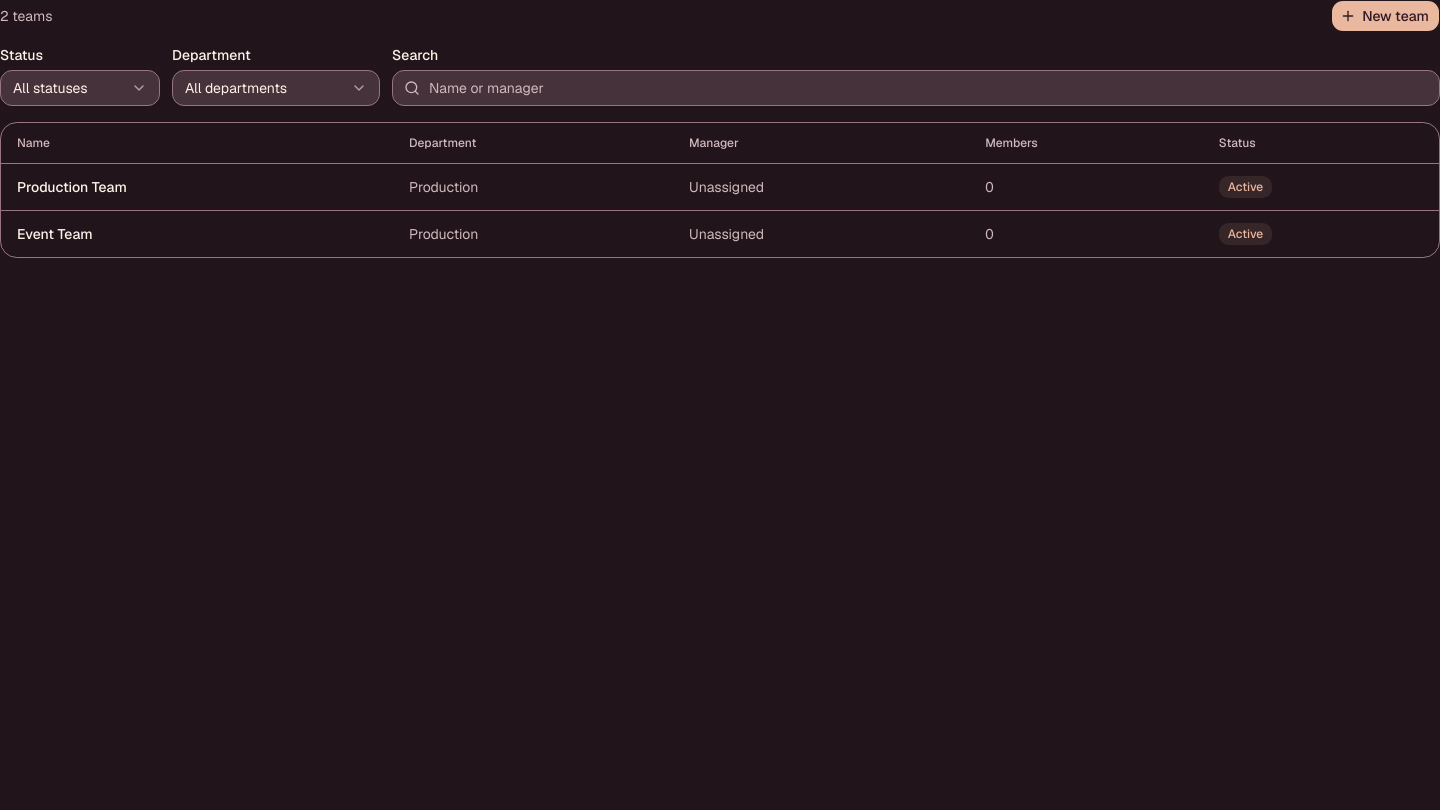
Test: TeamsManager API integration › surfaces a name conflict and keeps the dialog open
Expected: the text "2 teams" is shown, [0,6,52,26]
Click the button "New team" at (1386, 16), box [1331,0,1439,32]
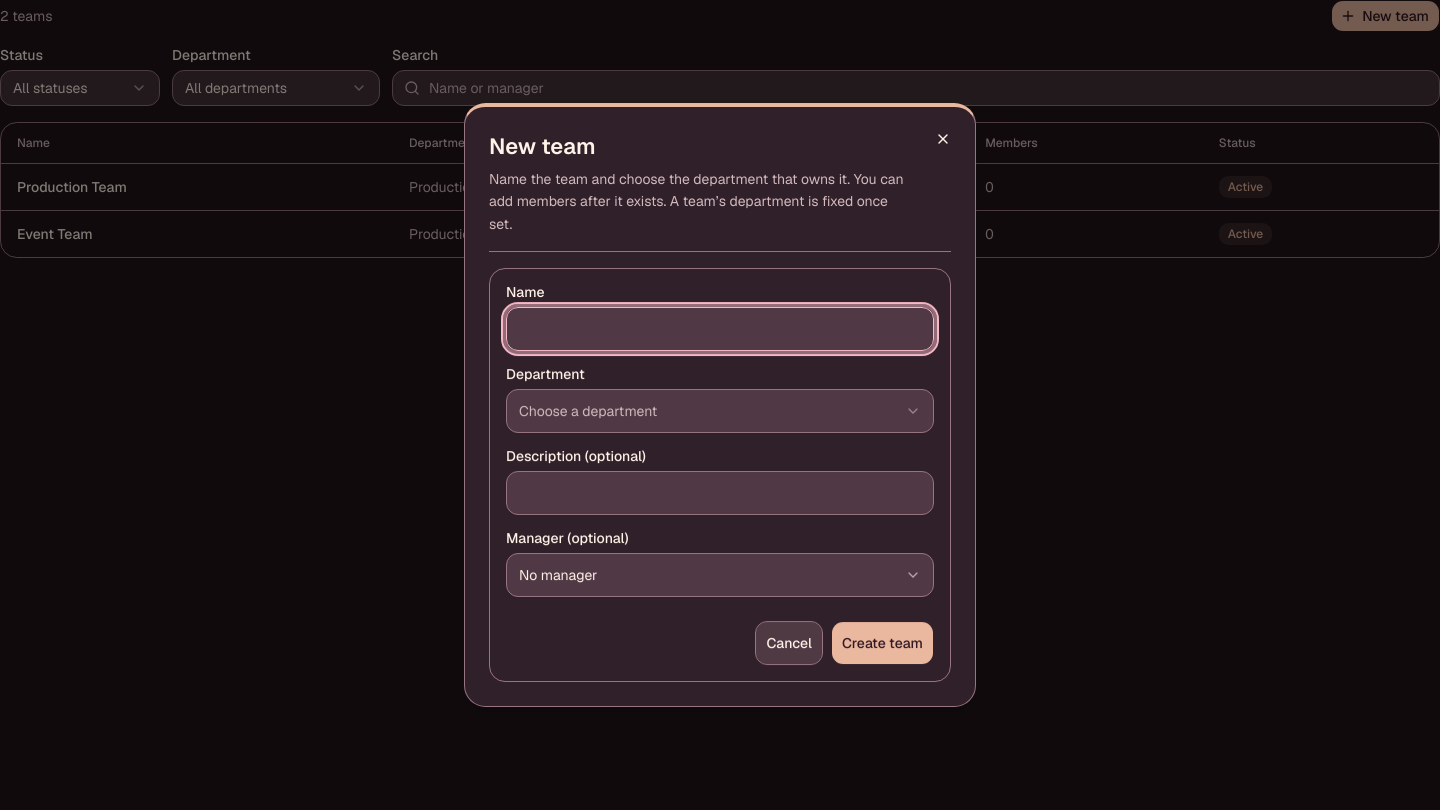
Type "Production Team" into the field labelled "Name" at (720, 329), box [506,307,934,351]
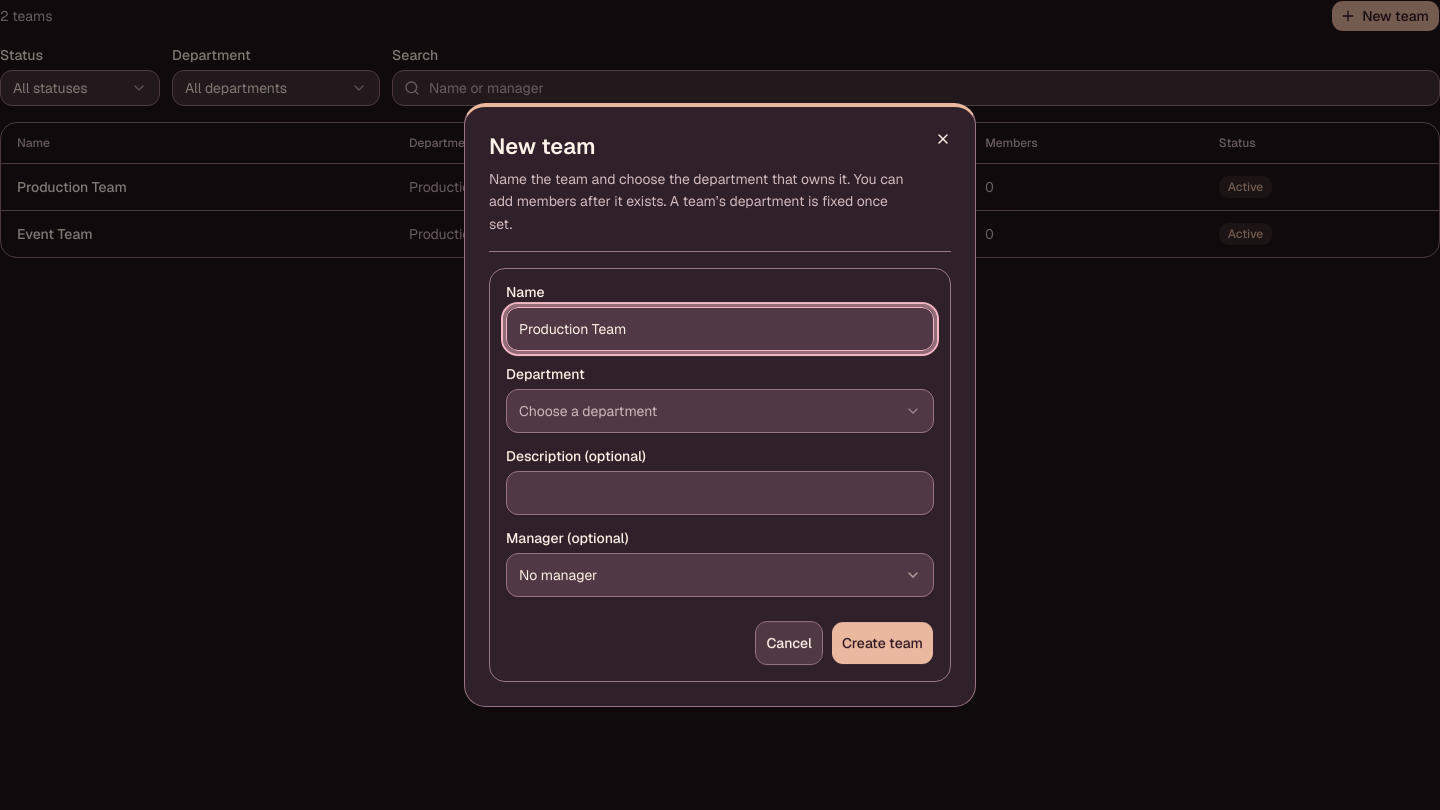
Click the dropdown labelled "department" at (588, 411), box [506,389,934,433]
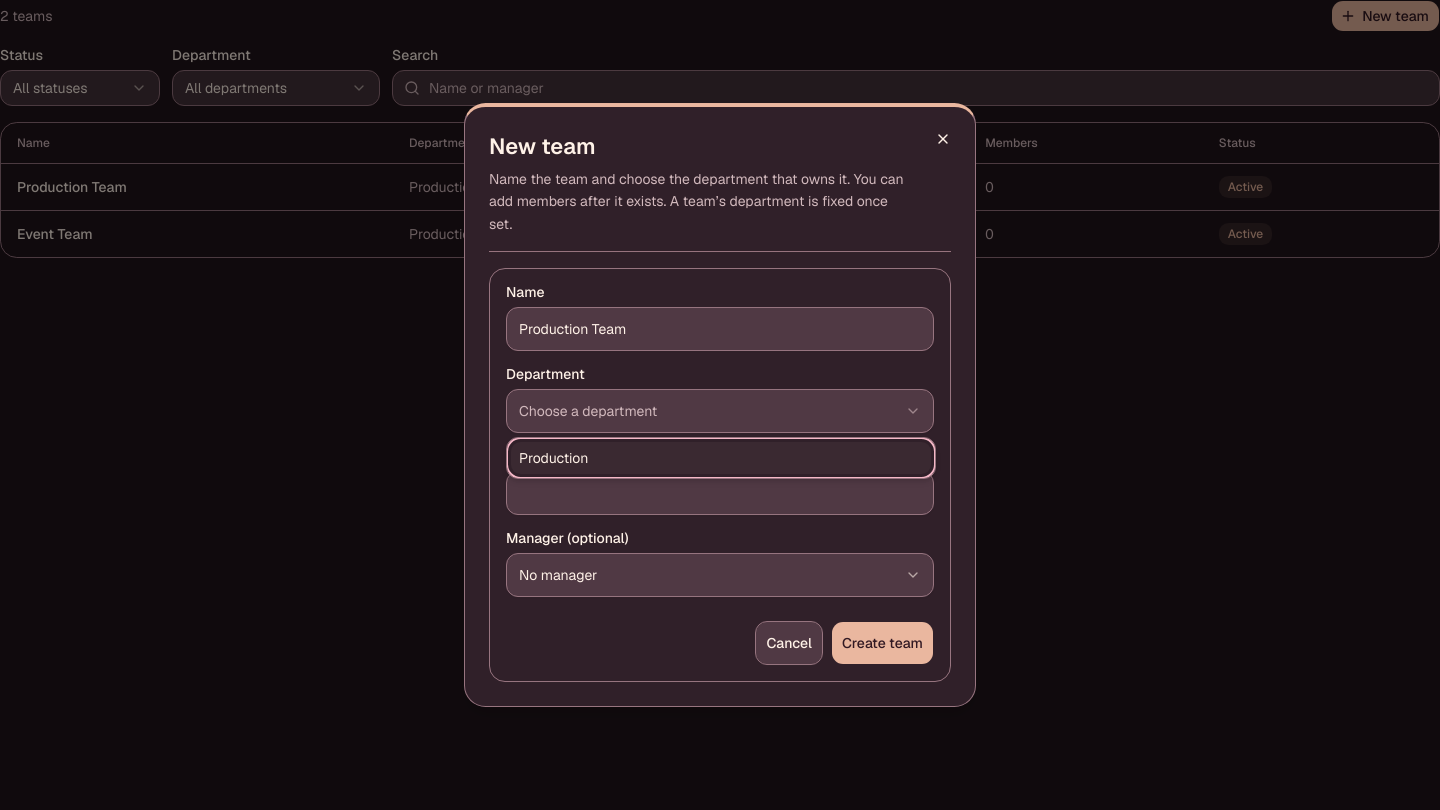
Click the option "Production" at (554, 458), box [511,442,931,474]
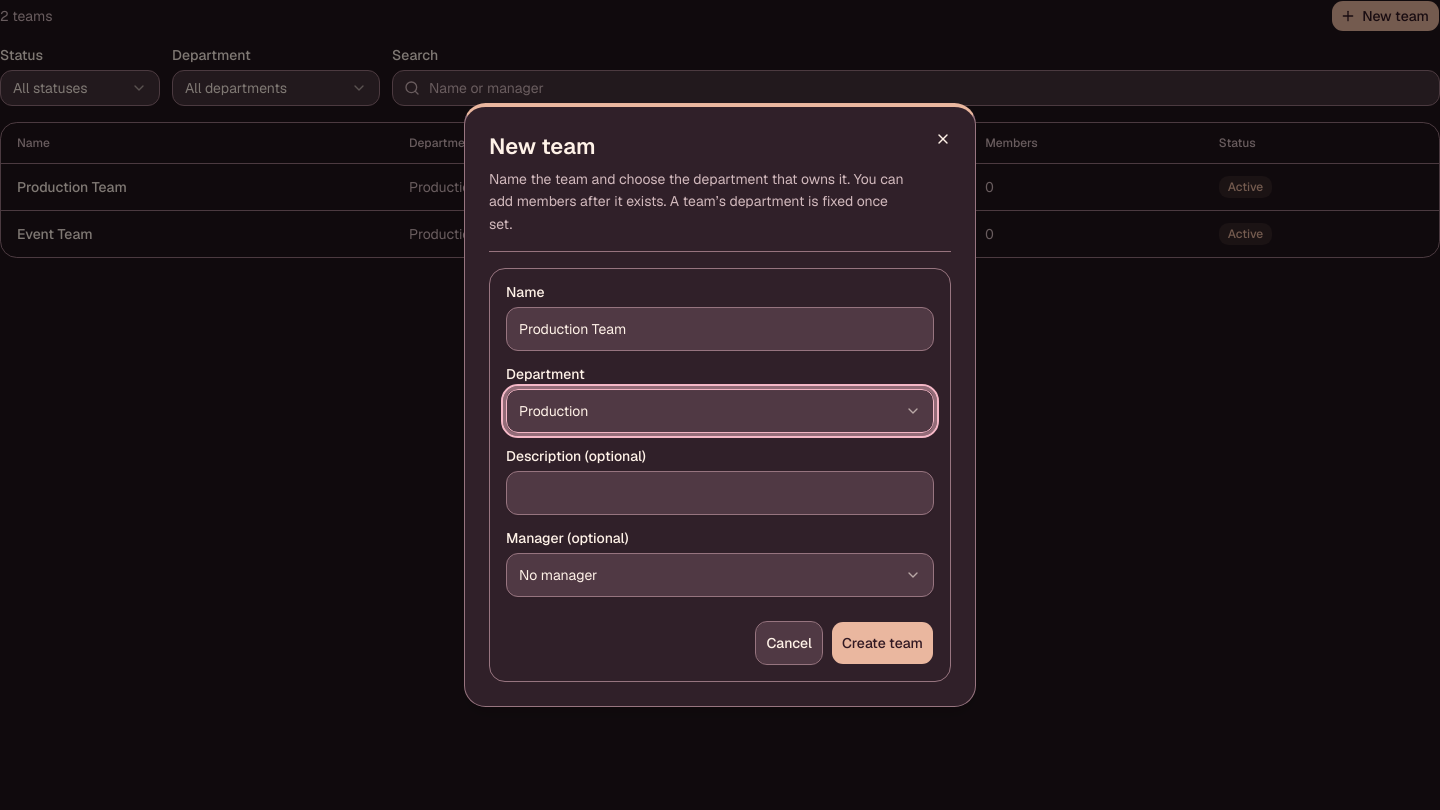
Click the button "Create team" at (882, 643), box [831,621,934,665]
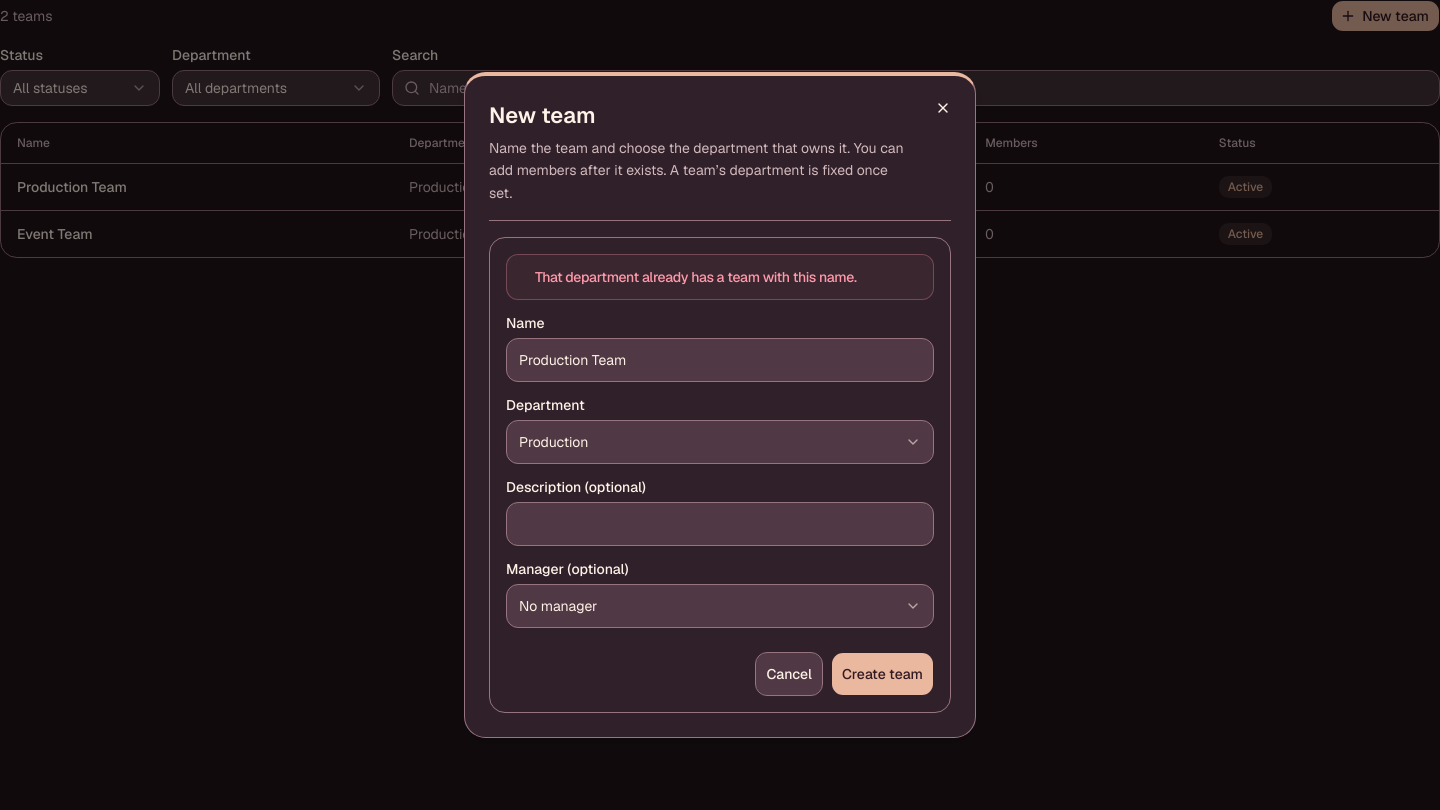
Now the text "That department already has a team with this name." is shown, box [535,268,857,286]
